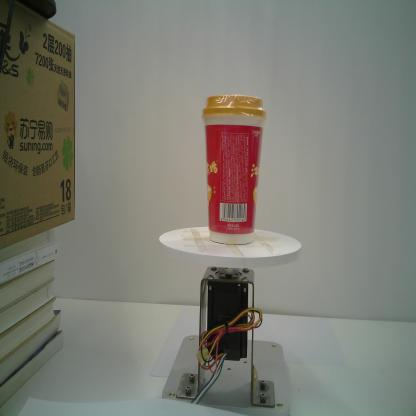Instant Drink: (200, 93, 268, 246)
